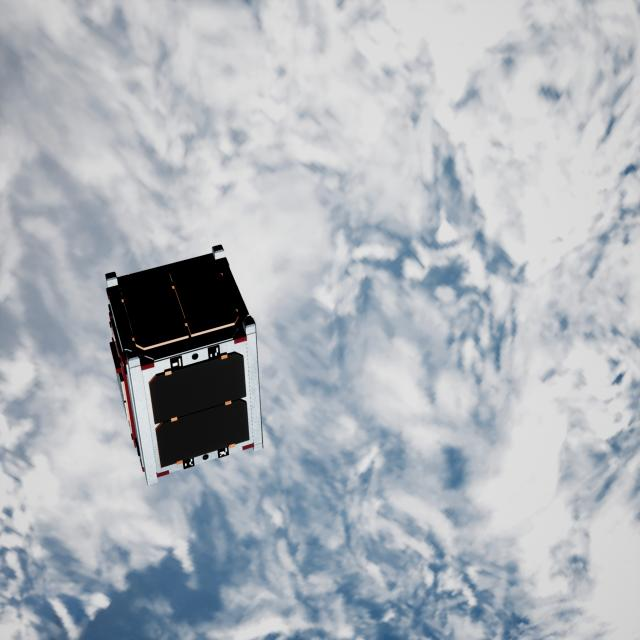satellite: (100, 244, 264, 486)
